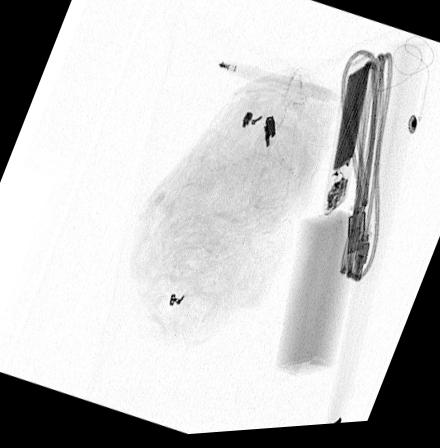Powerbank: (320, 59, 373, 221)
